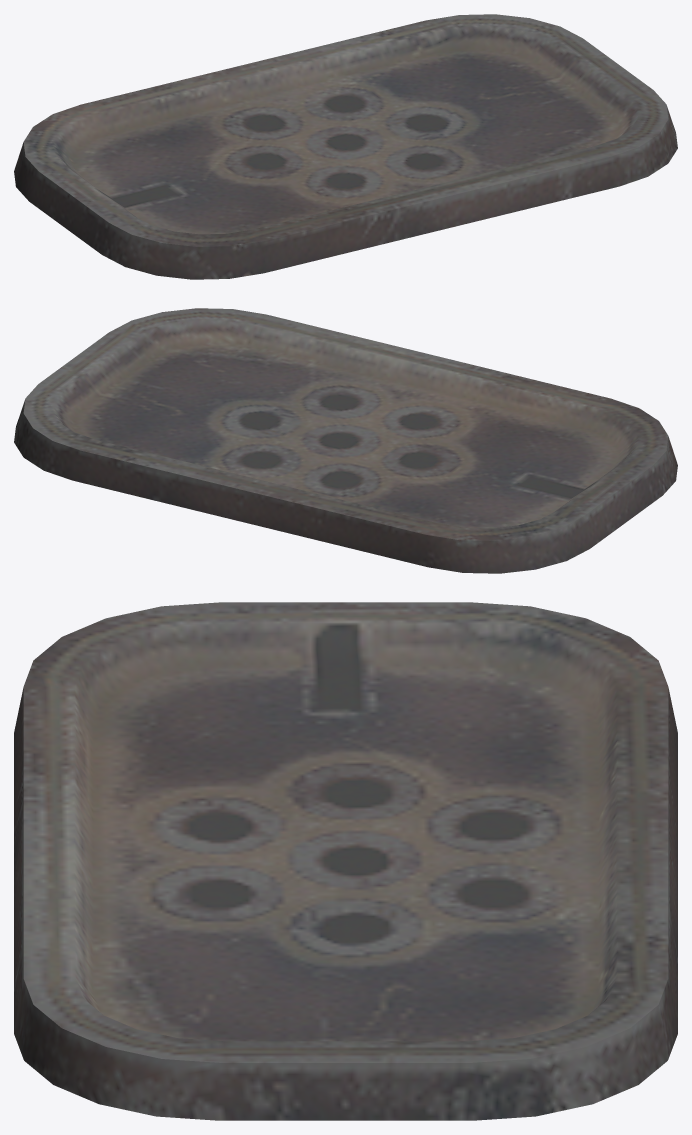
File: Hatchway_04.fbx
The picture shows the model from 3 angles, top to bottom: view 1: azimuth 30°, elevation 25°; view 2: azimuth 150°, elevation 25°; view 3: azimuth 270°, elevation 25°; orthographic projection. The views are drawn at different scales.
Visible parts, largest first — view 1: Hatchway_04_LOD0; view 2: Hatchway_04_LOD0; view 3: Hatchway_04_LOD0.
Part boxes in pixels (x1,y1,x2,y2): Hatchway_04_LOD0: (14,14,677,279); Hatchway_04_LOD0: (14,308,677,573); Hatchway_04_LOD0: (14,602,677,1120).
Size of what is drawn, in the model's own units: 61.16 by 3.06 by 36.16.
